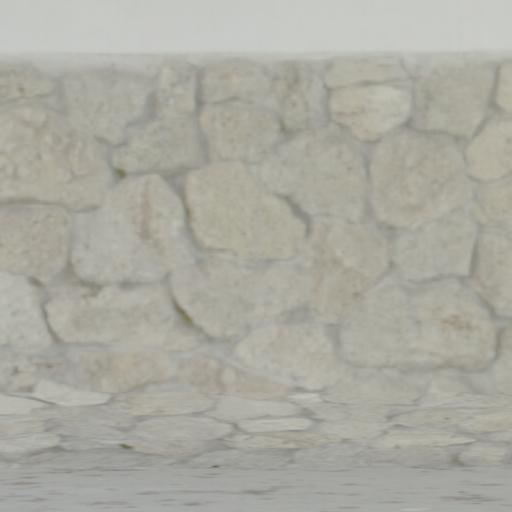nothing: (0, 2, 512, 512)
